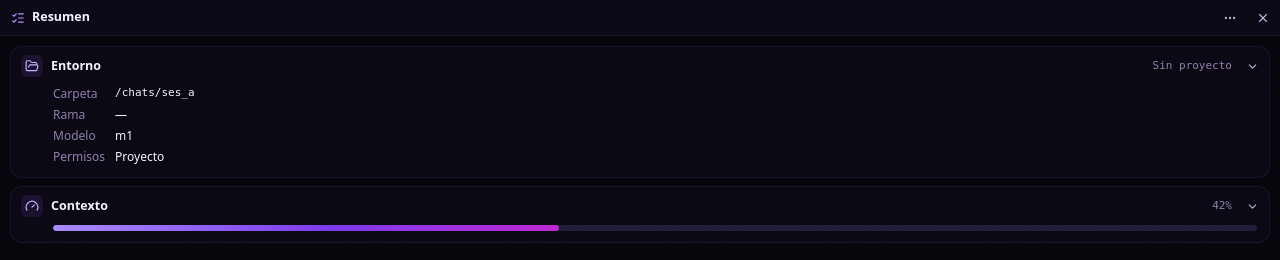
Test: plegar una tarjeta deja su cabecera
Click the button named "Plegar Entorno" at (1252,66), box [1240,54,1265,78]
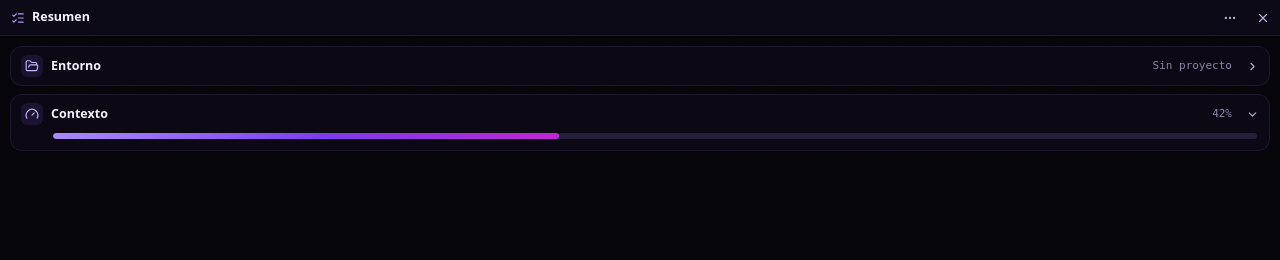
Now the button named "Desplegar Entorno" is shown, box [1240,54,1265,78]
